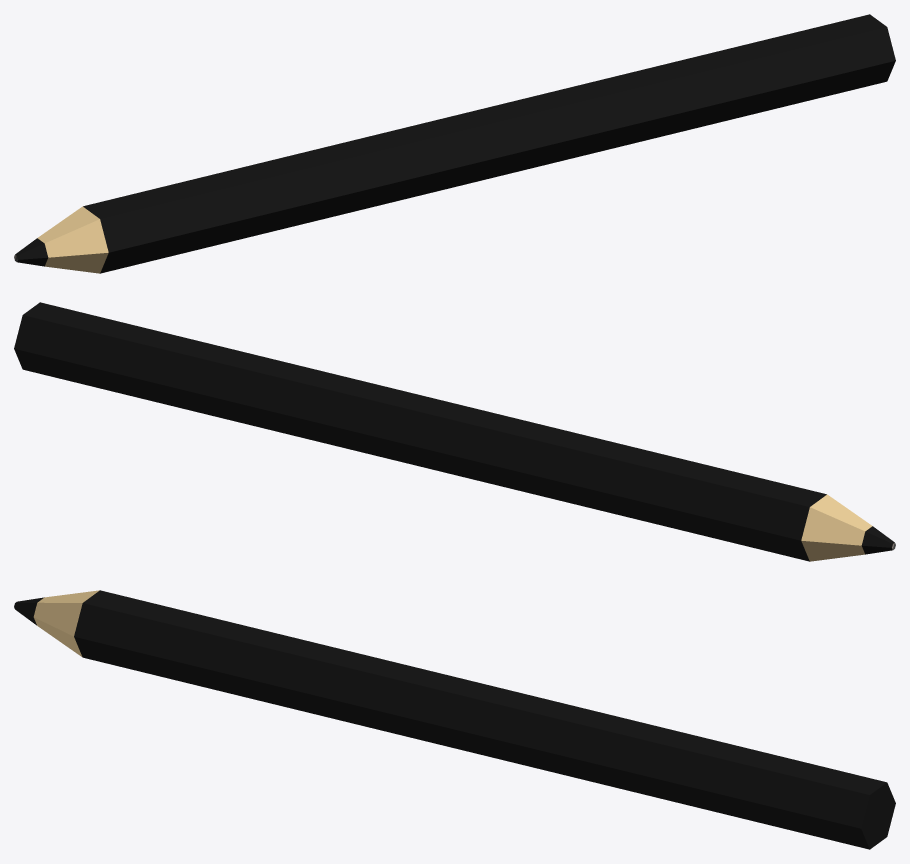
File: matita1.fbx
The picture shows the model from 3 angles, top to bottom: view 1: azimuth 30°, elevation 25°; view 2: azimuth 150°, elevation 25°; view 3: azimuth 330°, elevation 25°; orthographic projection.
Parts seen in each view (by area): view 1: matita1; view 2: matita1; view 3: matita1.
Part boxes in pixels (x1=…): matita1: x1=14, y1=14, x2=895, y2=273; matita1: x1=14, y1=302, x2=895, y2=561; matita1: x1=14, y1=590, x2=895, y2=849.
Bounding box in the file's own units: 0.11 × 0.00665 × 0.00768.
